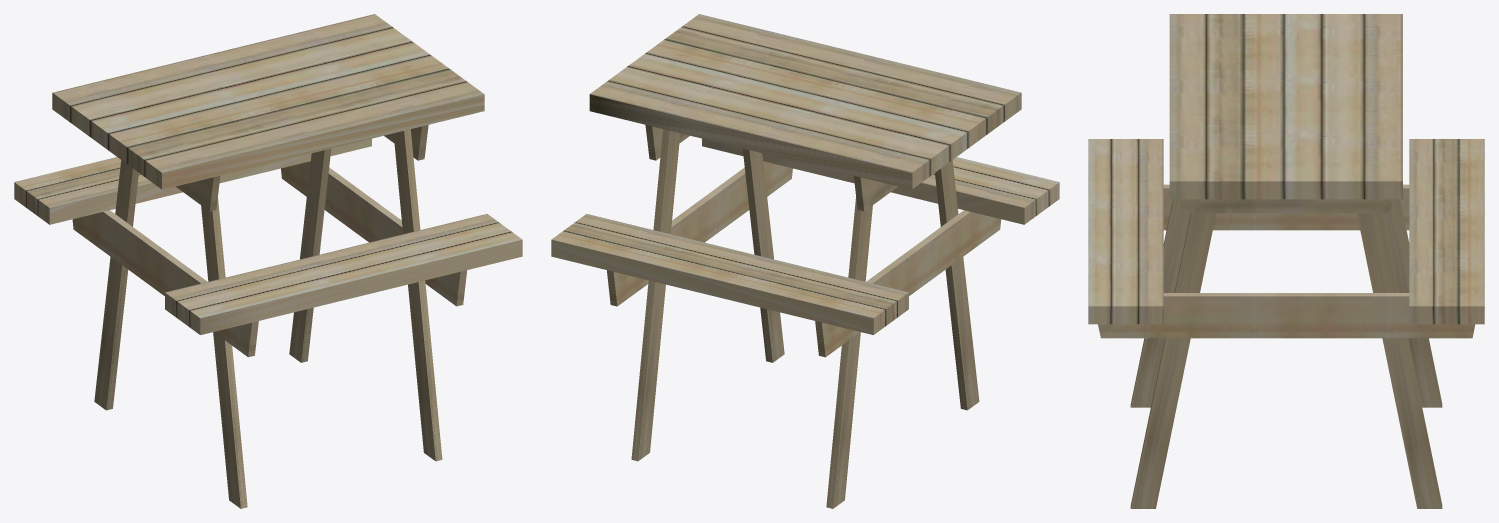
The model's file is sh-contrib-picnic-table.glb.
3 renders of one model, left to right at view 1: azimuth 30°, elevation 25°; view 2: azimuth 150°, elevation 25°; view 3: azimuth 270°, elevation 25°, orthographic. The views are drawn at different scales.
Parts seen in each view (by area): view 1: Box_5__5_33_33; view 2: Box_5__5_33_33; view 3: Box_5__5_33_33.
Part boxes in pixels (left/top/right/bottom): Box_5__5_33_33: left=14, top=14, right=522, bottom=508; Box_5__5_33_33: left=551, top=14, right=1059, bottom=508; Box_5__5_33_33: left=1088, top=14, right=1484, bottom=508.
Size of the model in its own units: 1 by 1 by 1.
1 material, 1 textured.
